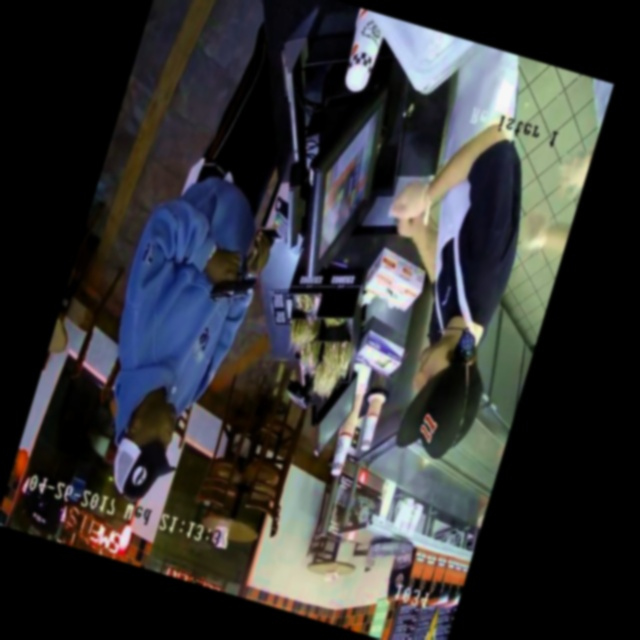gun: (187, 241, 278, 333)
